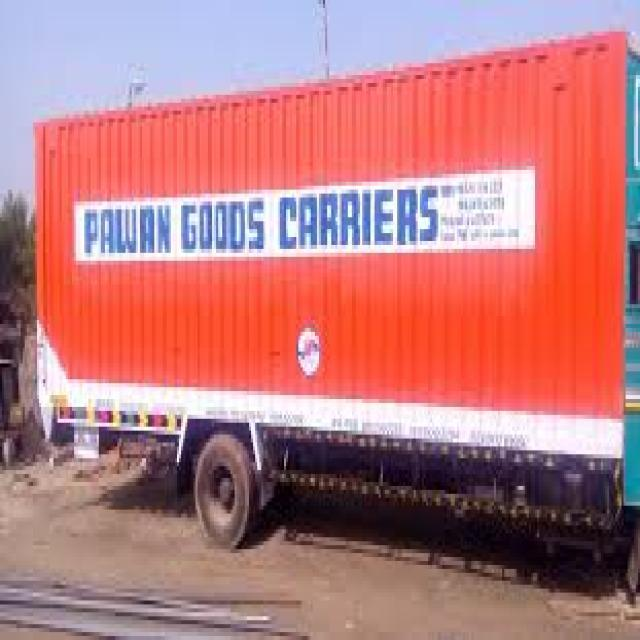covered: (29, 24, 638, 569)
